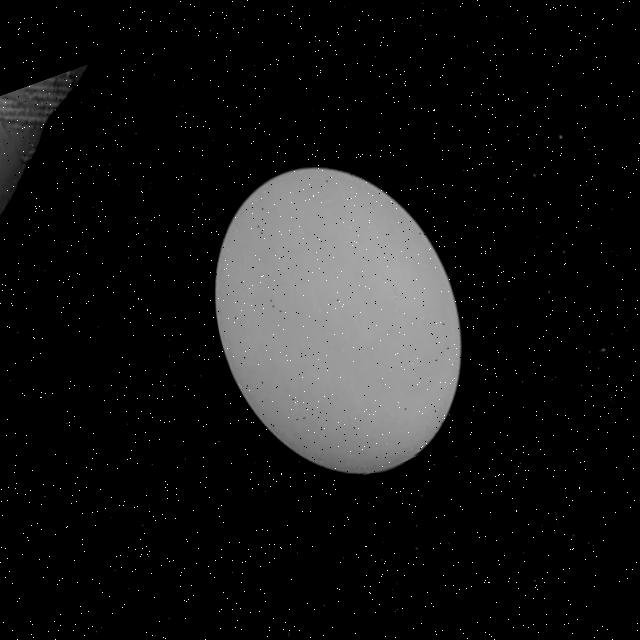ping-pong-ball: (175, 137, 504, 506)
